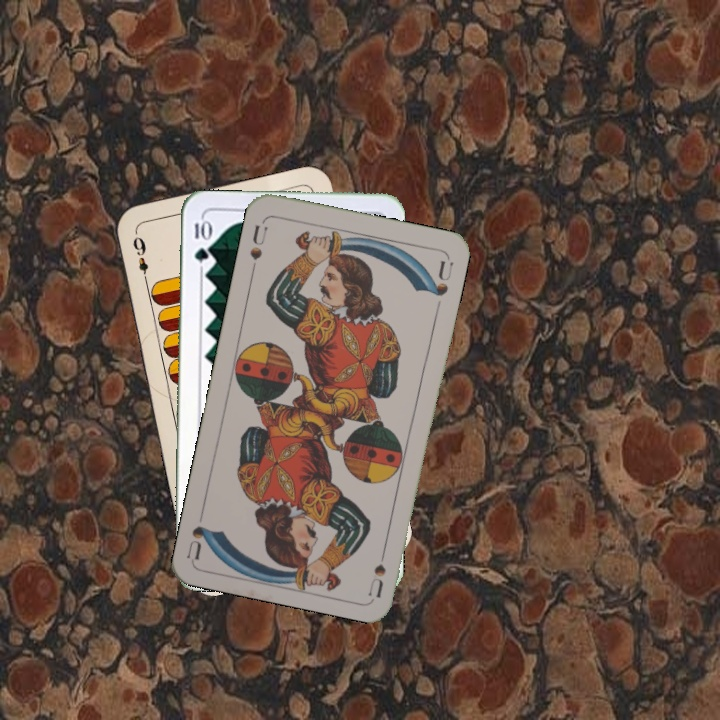E9: (129, 232, 151, 287)
G10: (190, 215, 211, 264)
SU: (364, 539, 390, 598), (246, 221, 271, 275)
